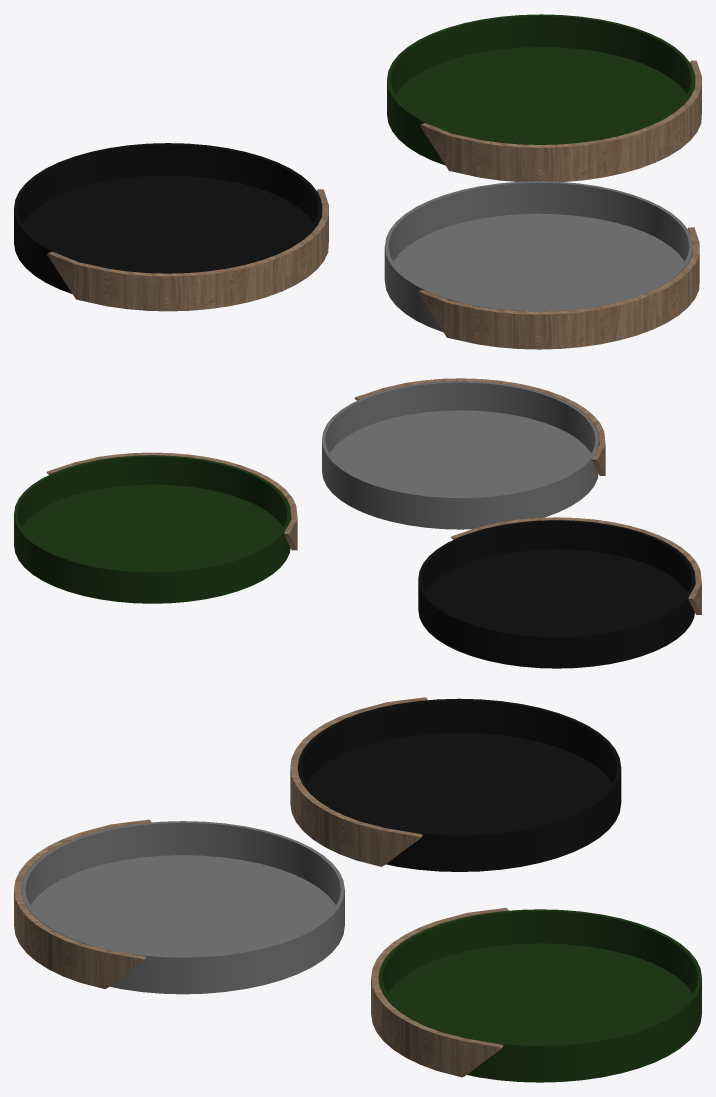
File: round lamp.obj
3 renders of one model, top to bottom at view 1: azimuth 30°, elevation 25°; view 2: azimuth 150°, elevation 25°; view 3: azimuth 270°, elevation 25°, orthographic. The views are drawn at different scales.
Parts seen in each view (by area): view 1: light; view 2: light; view 3: light.
Part boxes in pixels (<box>): light: <box>14,14,701,349</box>; light: <box>14,378,701,668</box>; light: <box>14,697,701,1082</box>.
Size of the model in its own units: 0.6963 by 0.0339 by 0.5779.
